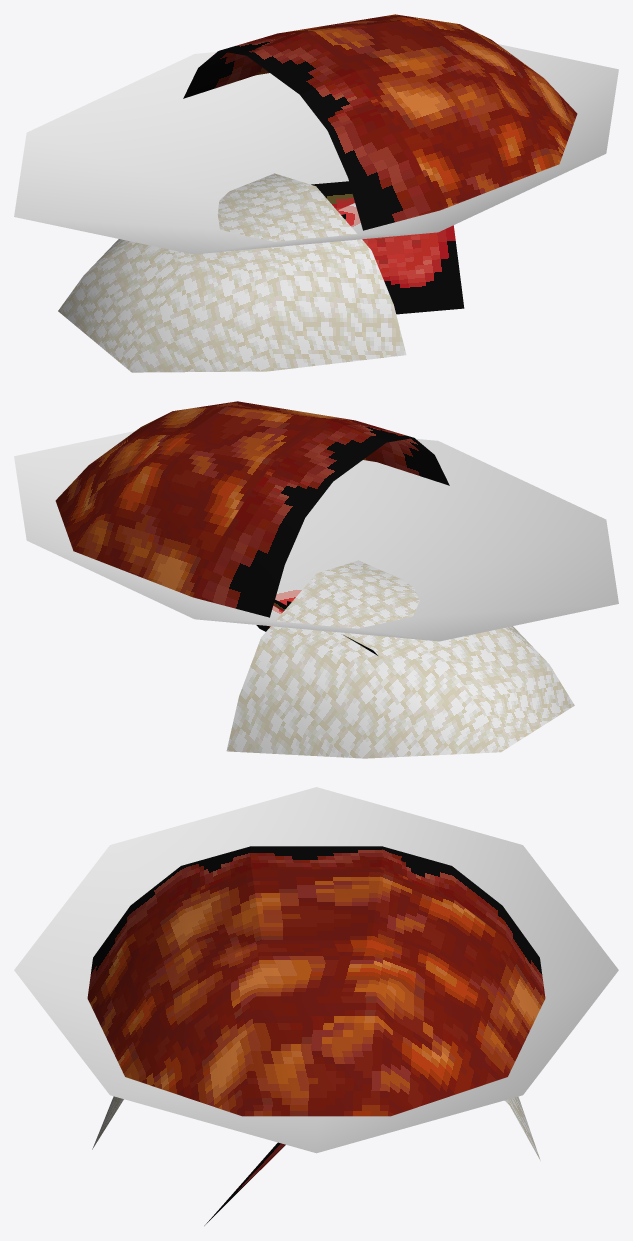
The picture shows the model from 3 angles, top to bottom: view 1: azimuth 30°, elevation 25°; view 2: azimuth 150°, elevation 25°; view 3: azimuth 270°, elevation 25°; orthographic projection. The views are drawn at different scales.
Visible parts, largest first — view 1: 5512u_cury01_hl; view 2: 5512u_cury01_hl; view 3: 5512u_cury01_hl.
Boxes of the visible parts, x1,y1,x2,y2 form: 5512u_cury01_hl: (14, 14, 618, 372); 5512u_cury01_hl: (14, 401, 618, 758); 5512u_cury01_hl: (14, 787, 618, 1225).
Size of the model in its own units: 0.8779 by 0.3438 by 0.6128.
Materials: 6 (6 with a texture image).
